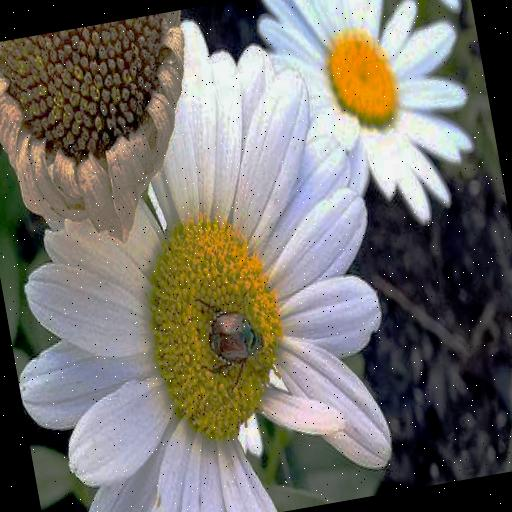daisy: (0, 3, 407, 512)
